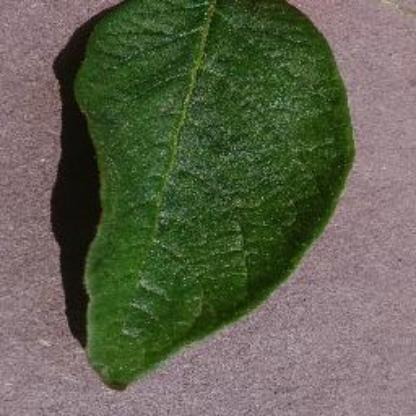Healthy-plant: (59, 8, 365, 390)
